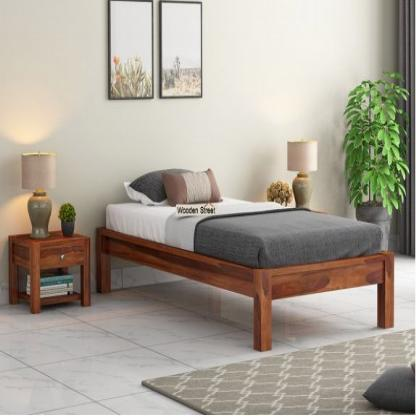bed: (95, 164, 387, 354)
light: (18, 147, 57, 240), (284, 130, 319, 209)
table: (5, 229, 88, 311)
